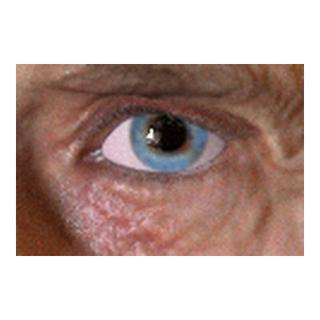pupil: (150, 114, 186, 151)
